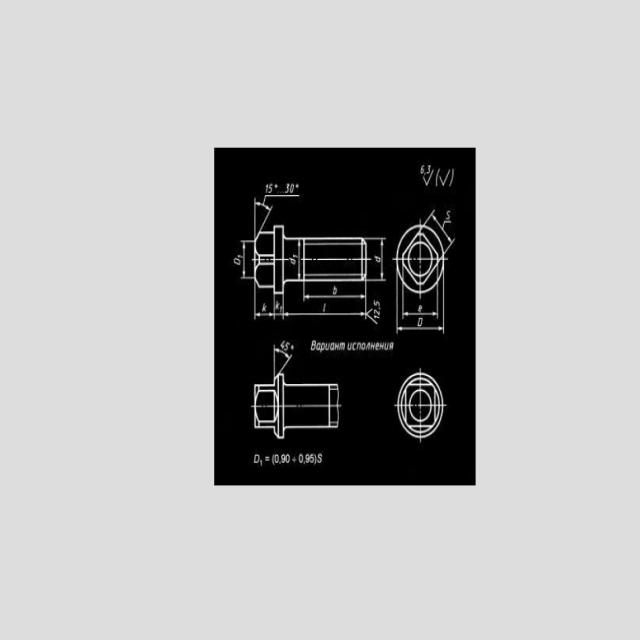marking_line: (253, 296, 369, 323), (281, 295, 368, 322), (394, 294, 445, 335), (303, 283, 368, 303), (401, 293, 440, 319), (428, 208, 455, 245), (367, 237, 386, 282), (270, 345, 294, 374), (252, 198, 273, 231), (240, 239, 254, 280), (253, 296, 275, 319), (298, 240, 302, 279)
numeric: (374, 307, 382, 316), (372, 301, 381, 308), (264, 183, 269, 195), (289, 182, 294, 194), (285, 183, 290, 194), (417, 317, 423, 326), (234, 258, 240, 266), (280, 340, 285, 349), (284, 342, 289, 351), (420, 165, 425, 174), (426, 165, 431, 174), (445, 210, 450, 219), (269, 183, 273, 194), (373, 315, 381, 320), (292, 254, 298, 259), (238, 254, 243, 259)
special_symbol: (439, 169, 450, 187), (422, 171, 435, 186), (449, 167, 455, 188), (435, 168, 441, 186), (291, 343, 295, 350), (295, 183, 299, 189), (274, 183, 278, 189)
